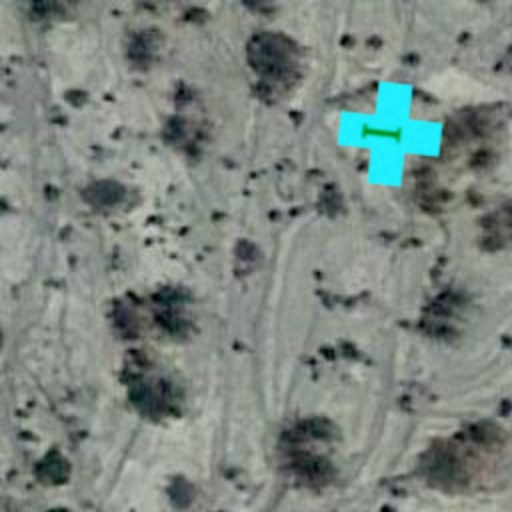cross: (332, 76, 448, 192)
